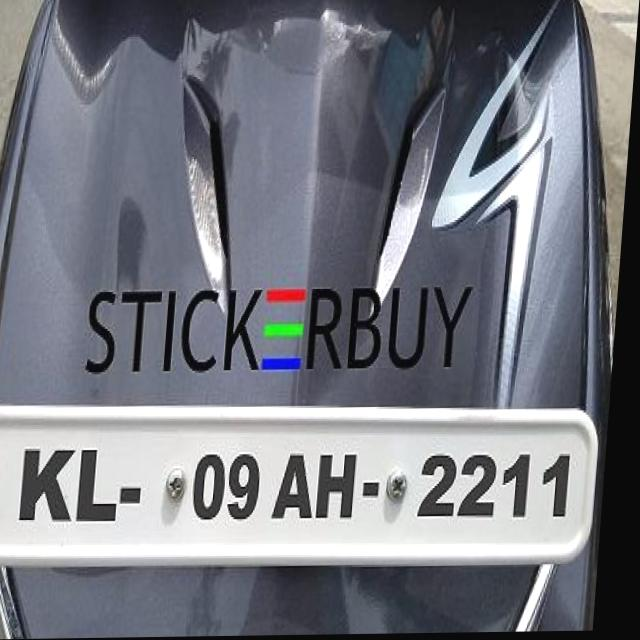0: (198, 458, 234, 525)
1: (545, 454, 583, 527), (509, 454, 541, 524)
2: (461, 455, 508, 527), (426, 458, 466, 523)
9: (232, 454, 270, 526)
a: (280, 457, 324, 524)
h: (323, 453, 366, 526)
k: (24, 444, 83, 528)
l: (82, 447, 132, 529)
